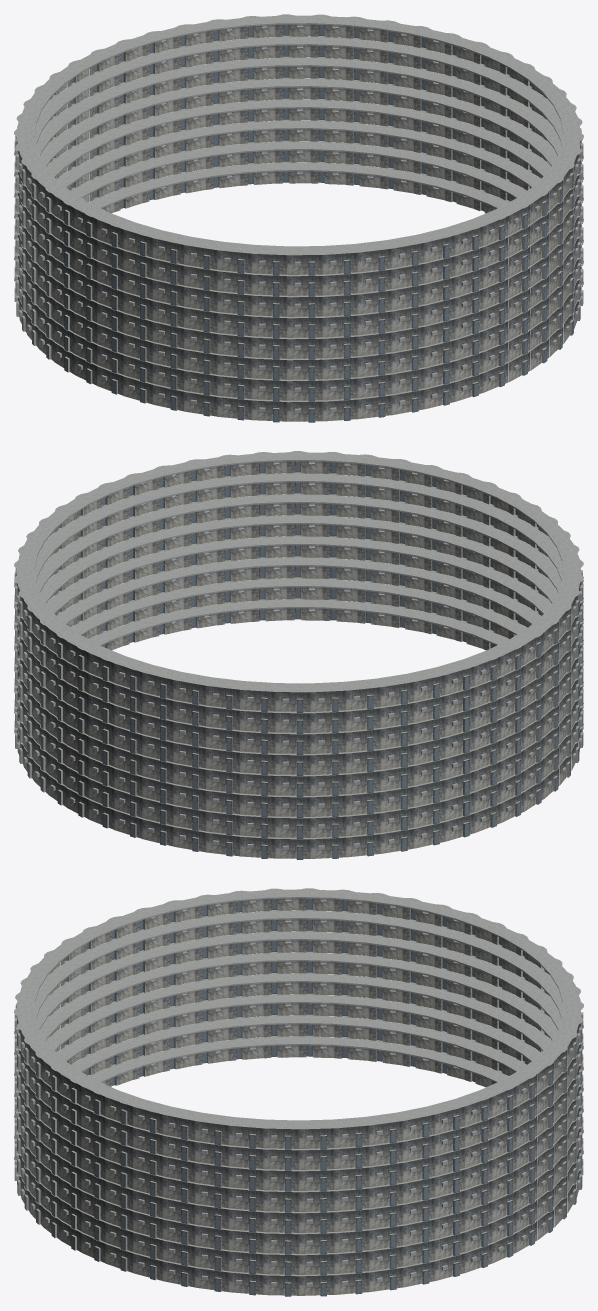
File: cells.fbx
3 renders of one model, top to bottom at view 1: azimuth 30°, elevation 25°; view 2: azimuth 150°, elevation 25°; view 3: azimuth 270°, elevation 25°, orthographic.
Visible parts, largest first — view 1: Cells; view 2: Cells; view 3: Cells.
Boxes of the visible parts, x1=… form: Cells: x1=14, y1=14, x2=583, y2=422; Cells: x1=14, y1=451, x2=583, y2=859; Cells: x1=14, y1=888, x2=583, y2=1296.
Bounding box in the file's own units: 8906 × 2894 × 8905.
